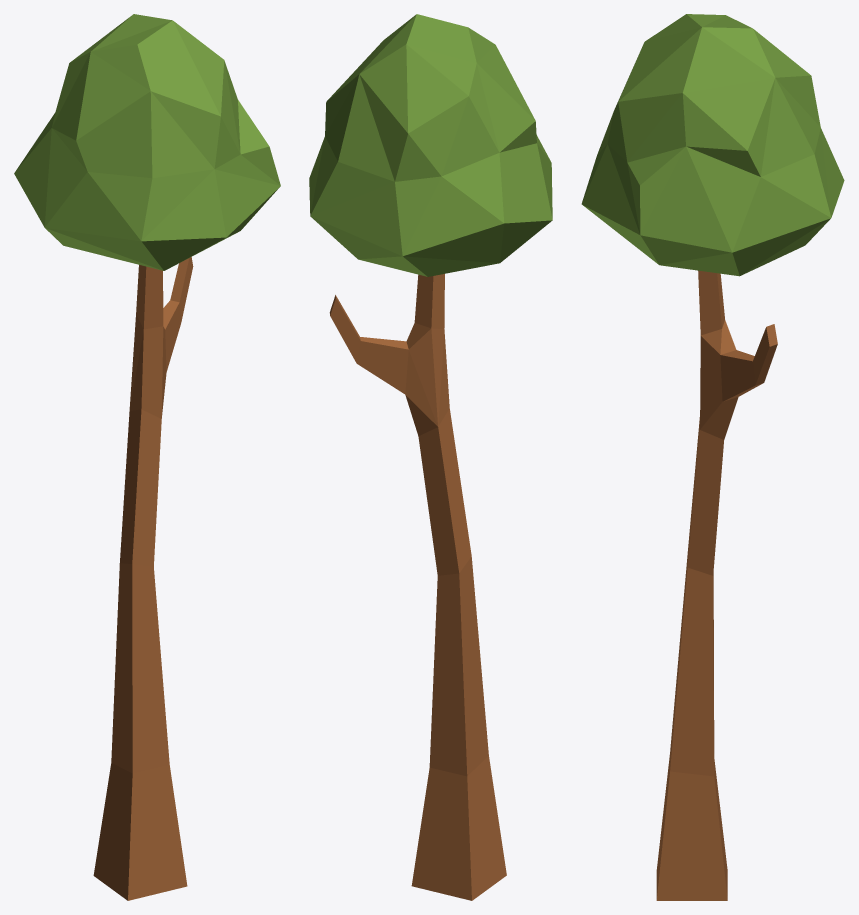
Rendered from Tree_6.fbx.
The picture shows the model from 3 angles, left to right: view 1: azimuth 30°, elevation 25°; view 2: azimuth 150°, elevation 25°; view 3: azimuth 270°, elevation 25°; orthographic projection. The views are drawn at different scales.
Parts seen in each view (by area): view 1: M_Tree 6; view 2: M_Tree 6; view 3: M_Tree 6.
Part boxes in pixels (box(x1,y1,x2,y2)): M_Tree 6: box(14, 14, 280, 900); M_Tree 6: box(309, 14, 552, 900); M_Tree 6: box(581, 14, 844, 900).
Size of the model in its own units: 51.4 by 187 by 50.92.
1 material, 1 textured.
